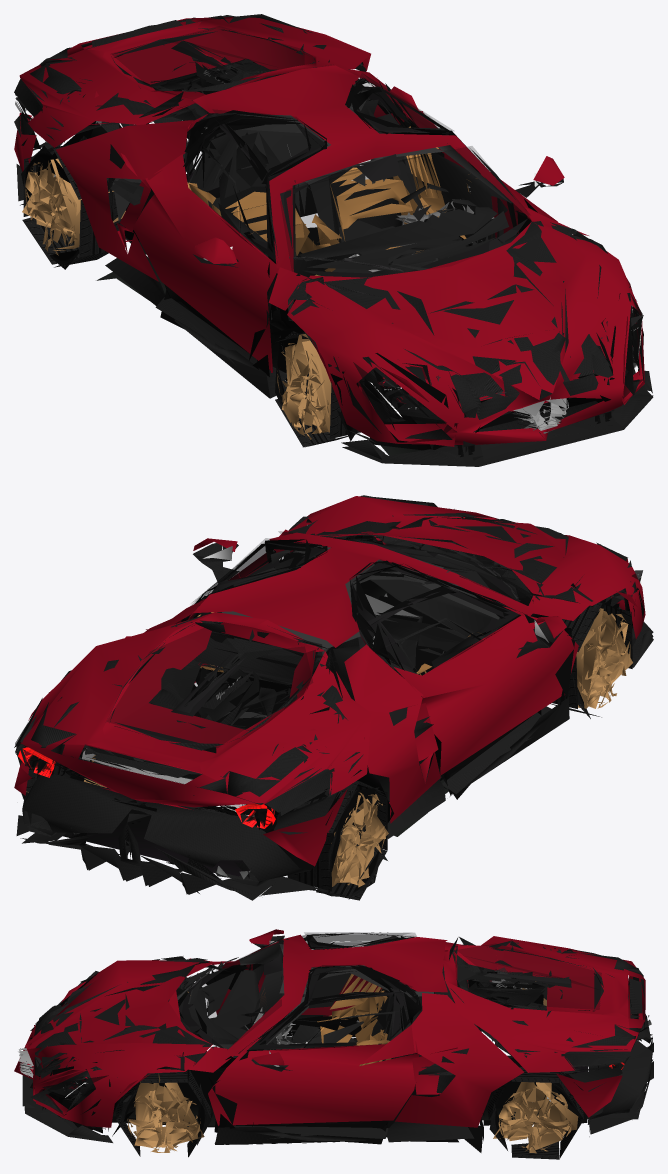
The model's file is alfa33.glb.
3 renders of one model, top to bottom at view 1: azimuth 30°, elevation 25°; view 2: azimuth 150°, elevation 25°; view 3: azimuth 270°, elevation 25°, orthographic. The views are drawn at different scales.
Visible parts, largest first — view 1: _Ani_Disc_Scale_BL7_Breaks_0; view 2: _Ani_Disc_Scale_BL7_Breaks_0; view 3: _Ani_Disc_Scale_BL7_Breaks_0.
Boxes of the visible parts, left/top/right/bottom form: _Ani_Disc_Scale_BL7_Breaks_0: left=14, top=14, right=653, bottom=466; _Ani_Disc_Scale_BL7_Breaks_0: left=14, top=495, right=653, bottom=900; _Ani_Disc_Scale_BL7_Breaks_0: left=14, top=929, right=653, bottom=1159.
Bounding box in the file's own units: 2.2 × 1.21 × 4.5.
28 materials, 20 textured.
